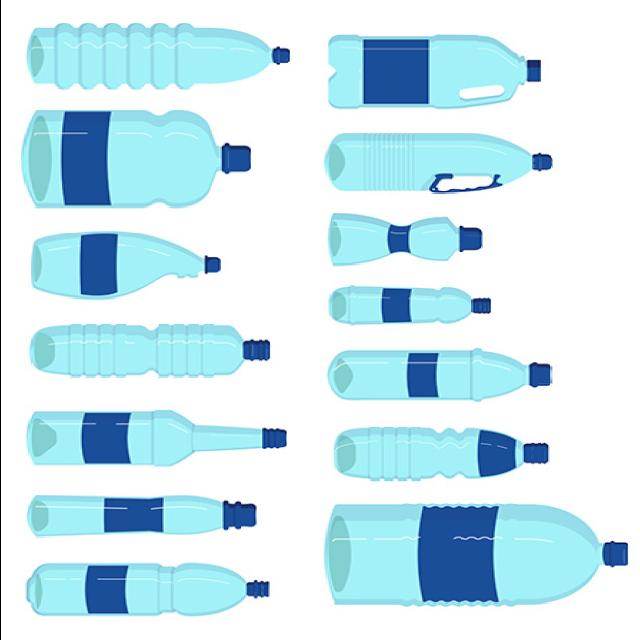bottle: (326, 505, 626, 603), (24, 111, 249, 207), (28, 23, 289, 88), (28, 410, 285, 466), (326, 133, 550, 193), (26, 564, 268, 616), (31, 325, 268, 377), (32, 233, 219, 298), (328, 349, 550, 401), (335, 427, 548, 480), (27, 496, 256, 537), (329, 214, 481, 264), (330, 286, 490, 325)
